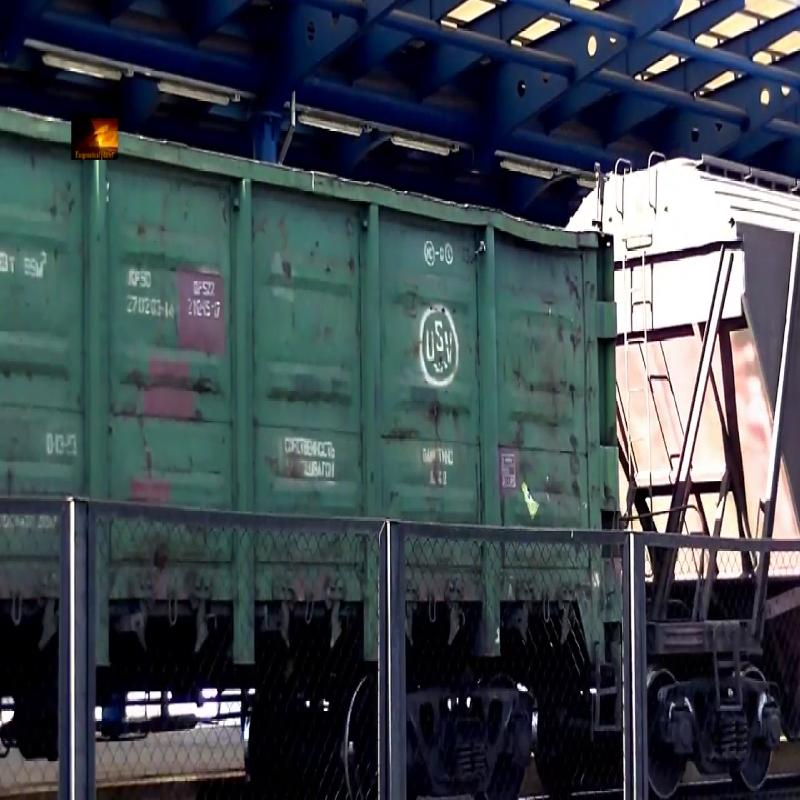train: (2, 13, 637, 758), (675, 4, 800, 752)
